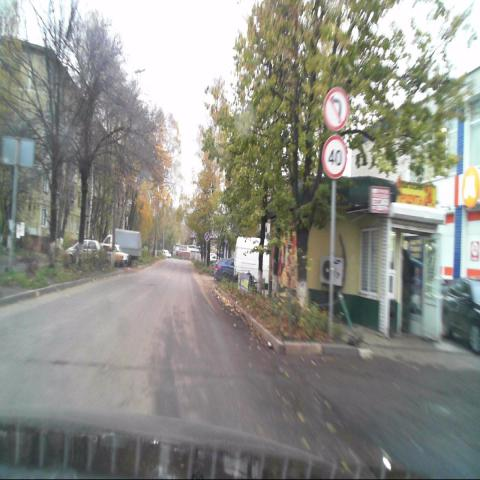3_18_2: (322, 88, 349, 131)
